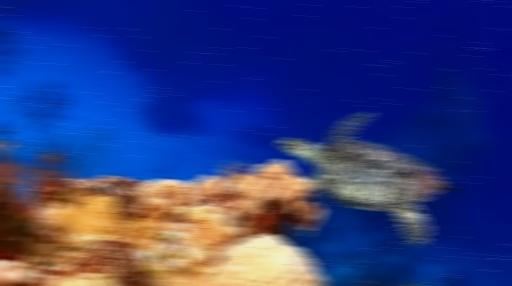Fish: (278, 112, 454, 245)
